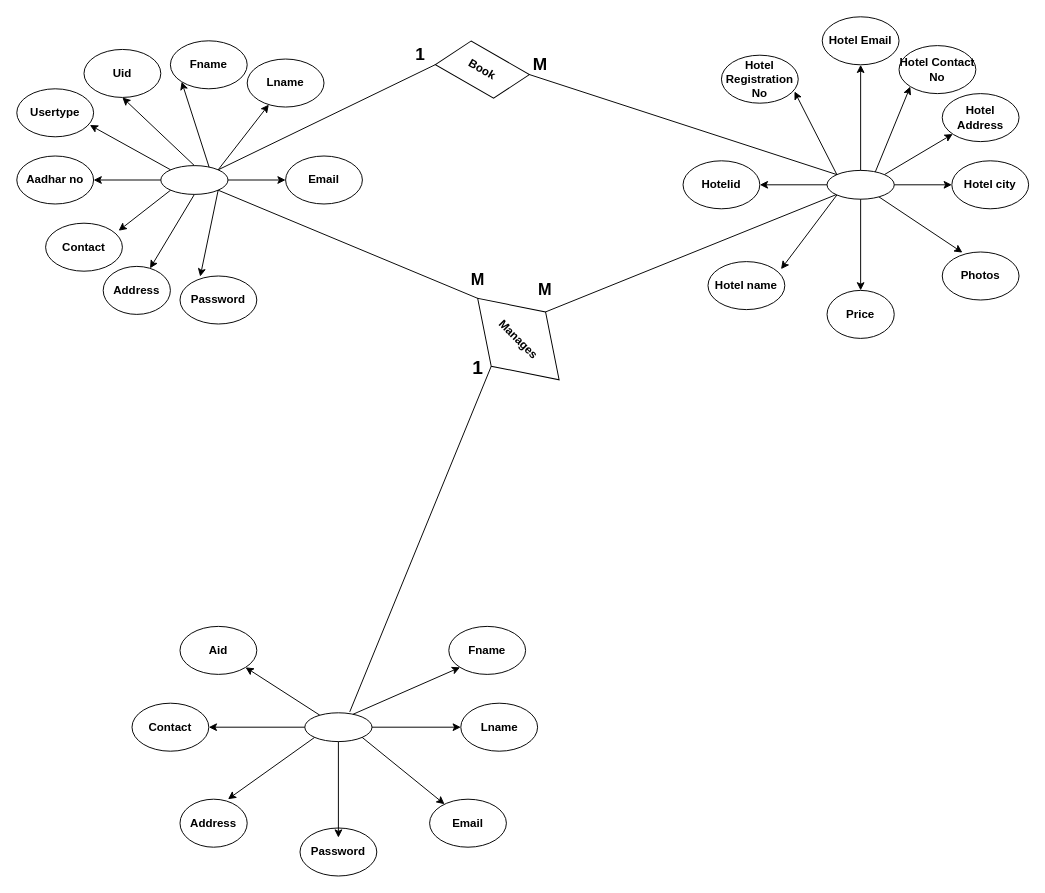
Some shapes in this 1045 by 893 pixel diagram are drawn without their labels. The shapes that lost their labels are listed below. From the top down, each one's centre as x and y in pixels, then its label:
(194,179): User
(860,184): Hotel
(338,727): Admin
